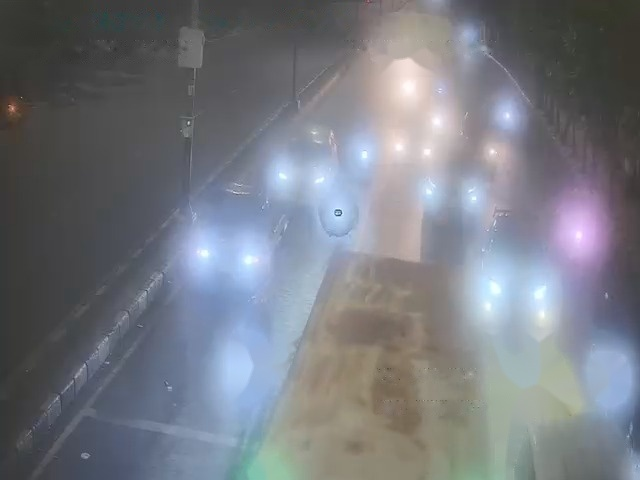Mobil: (200, 167, 279, 279), (479, 210, 549, 324), (274, 116, 341, 196), (426, 138, 477, 230)
Motor: (564, 213, 591, 259), (356, 144, 374, 176)
